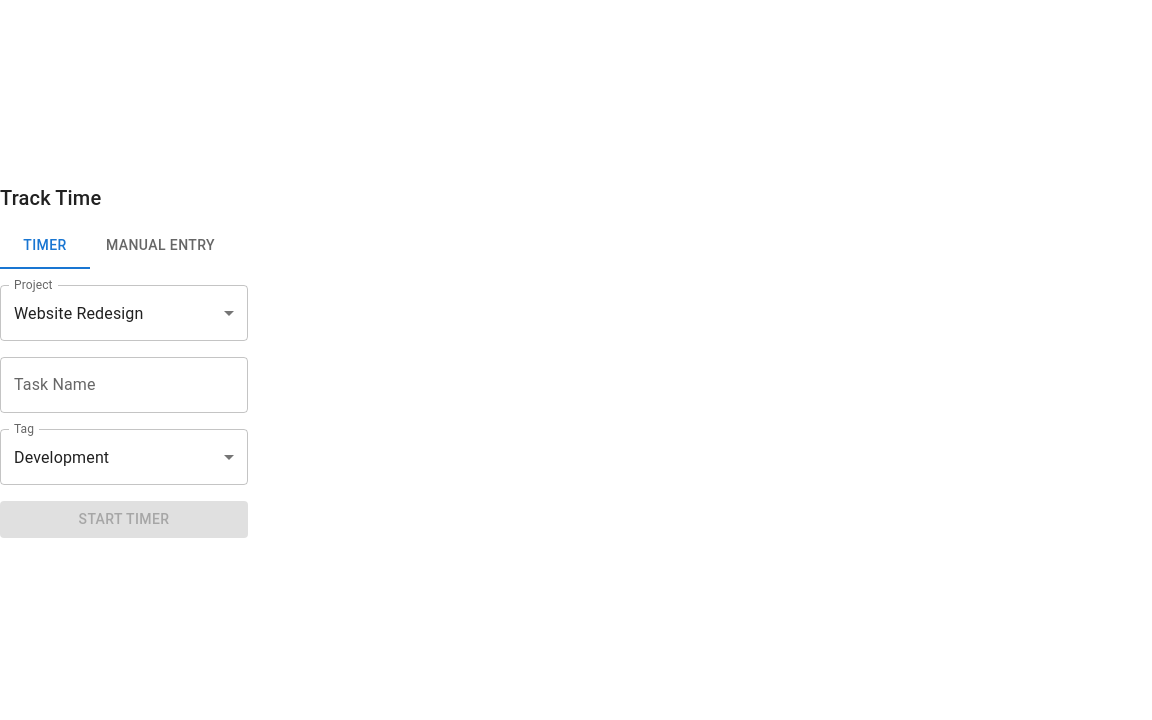
Test case: TimeTracker Component › opens manual entry dialog
# Switch to manual tab
Click the tab "Manual Entry" at (160, 245), box x1=90 y1=221 x2=231 y2=269
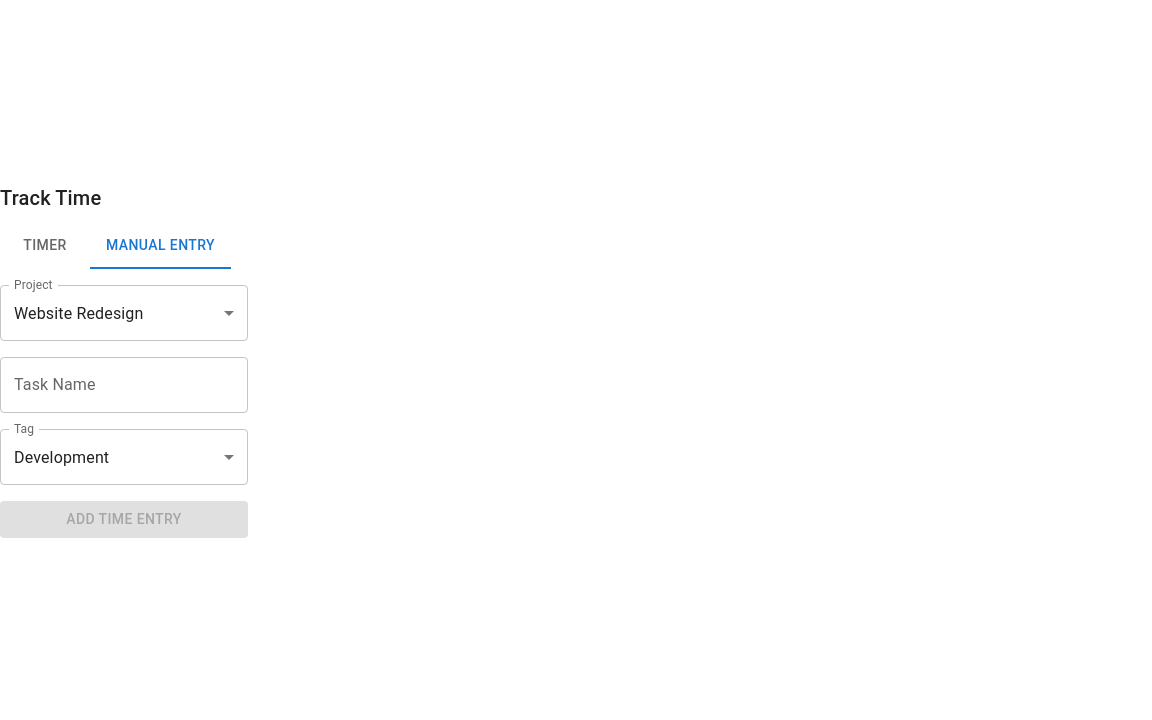
Type "Manual Task" into the field labelled "Task Name" at (124, 385), box x1=0 y1=357 x2=248 y2=413
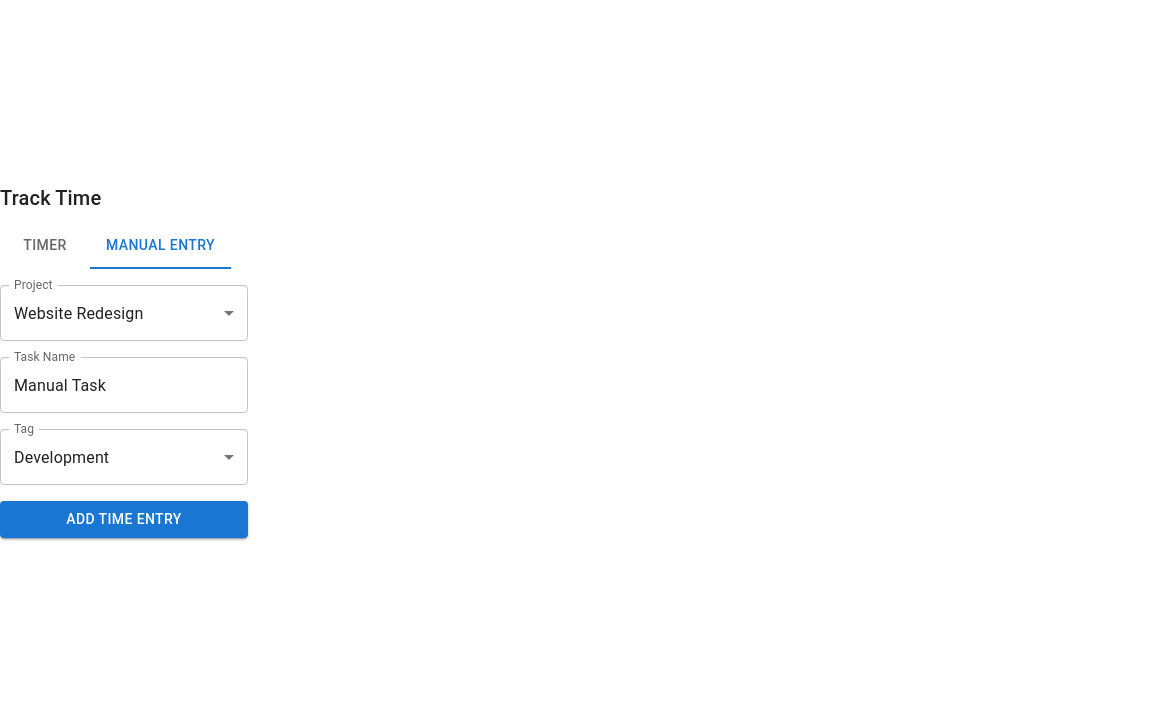
Click the button "Add Time Entry" at (124, 520), box x1=0 y1=501 x2=248 y2=538
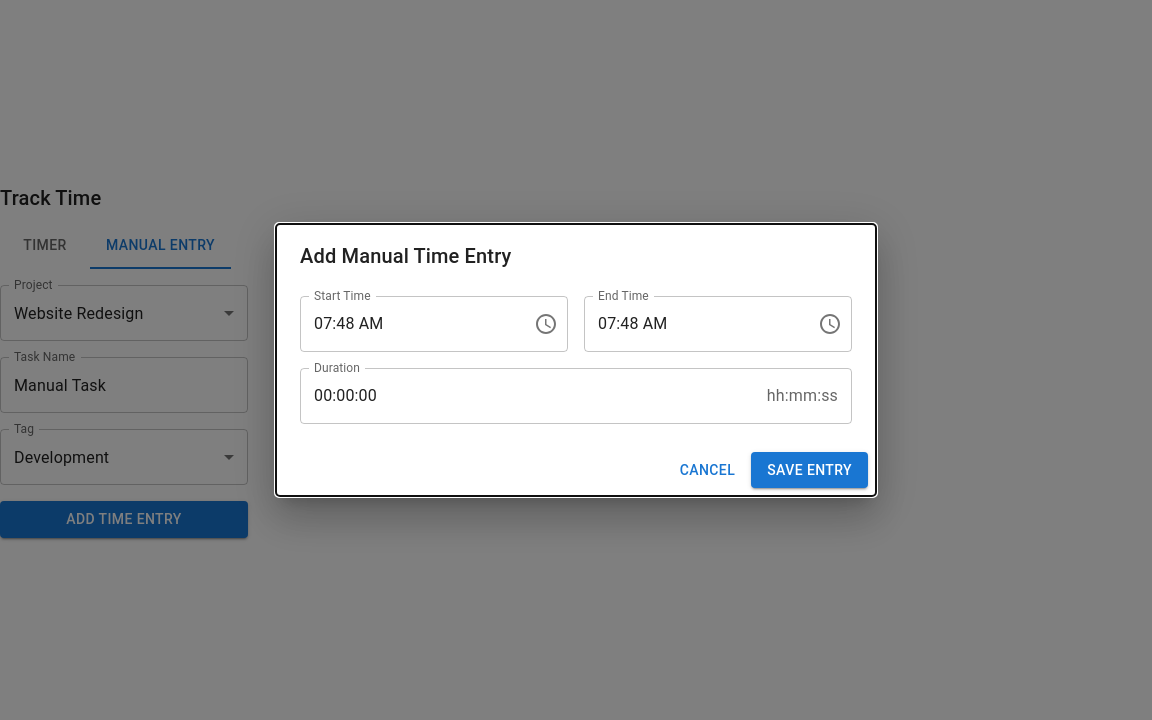
Now the heading "Add Manual Time Entry" is shown, box x1=300 y1=244 x2=511 y2=268
